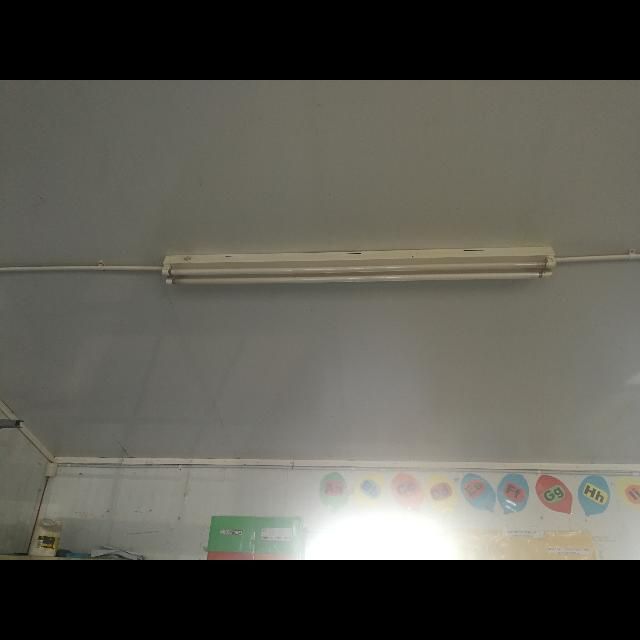Straight-Tube-Fluorescent-Lamp: (156, 241, 560, 299)
